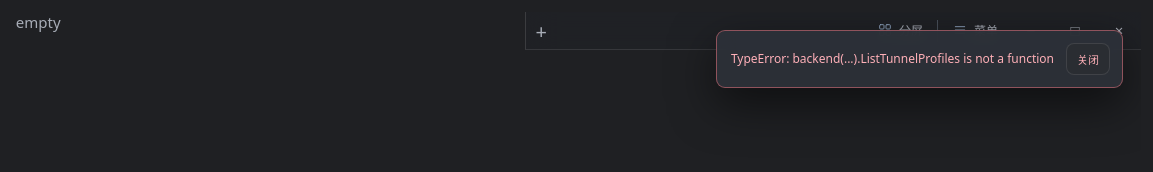
App UI overlays › shows local terminal entries when the saved server list is empty
Click the button with class "topbar-add": (541, 32) [526, 15, 556, 49]
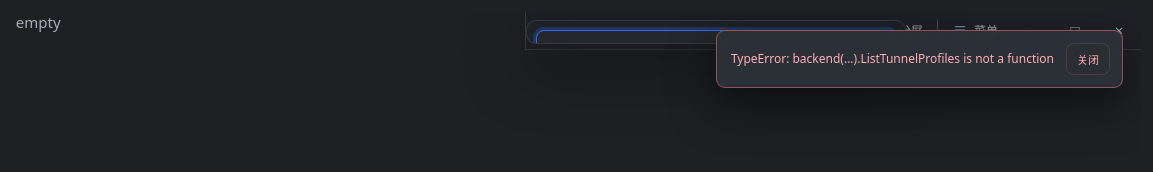
Now the element with class "server-picker" is shown, box [526, 20, 906, 44]
